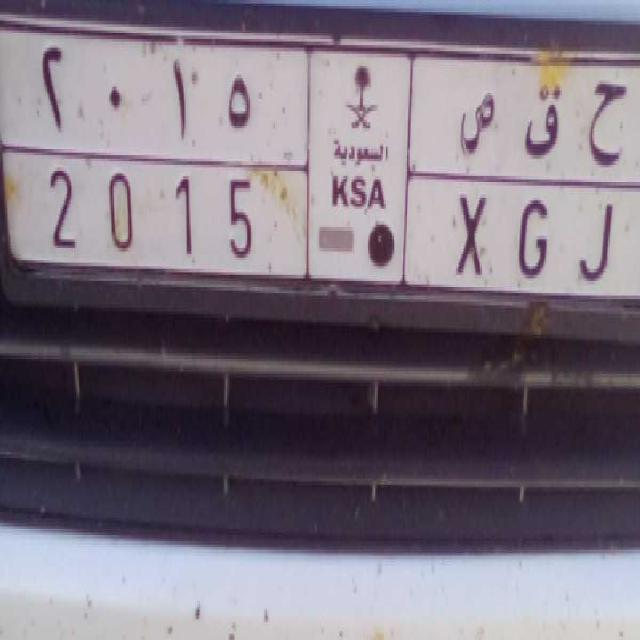license_plate: (0, 163, 633, 299)
